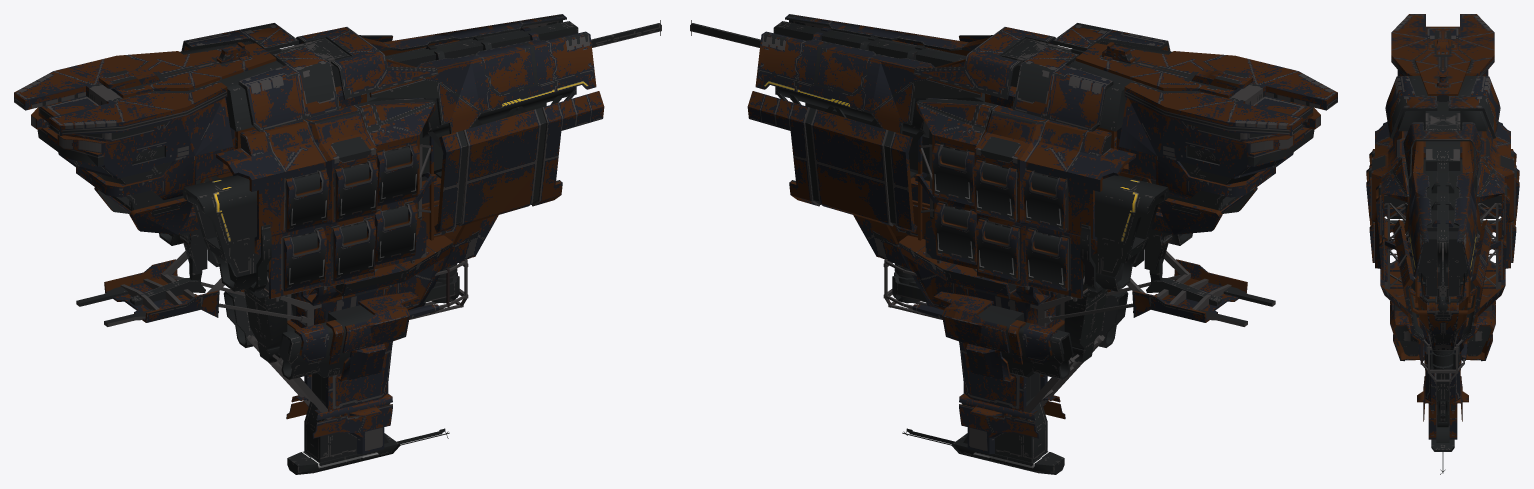
File: rupture.glb
3 renders of one model, left to right at view 1: azimuth 30°, elevation 25°; view 2: azimuth 150°, elevation 25°; view 3: azimuth 270°, elevation 25°, orthographic. The views are drawn at different scales.
Visible parts, largest first — view 1: Rupture; view 2: Rupture; view 3: Rupture.
Part boxes in pixels (bbox=[...]): Rupture: bbox=[14, 14, 661, 474]; Rupture: bbox=[690, 14, 1337, 474]; Rupture: bbox=[1366, 14, 1519, 474].
Size of the model in its own units: 275 by 187 by 79.73.
1 material, 1 textured.
